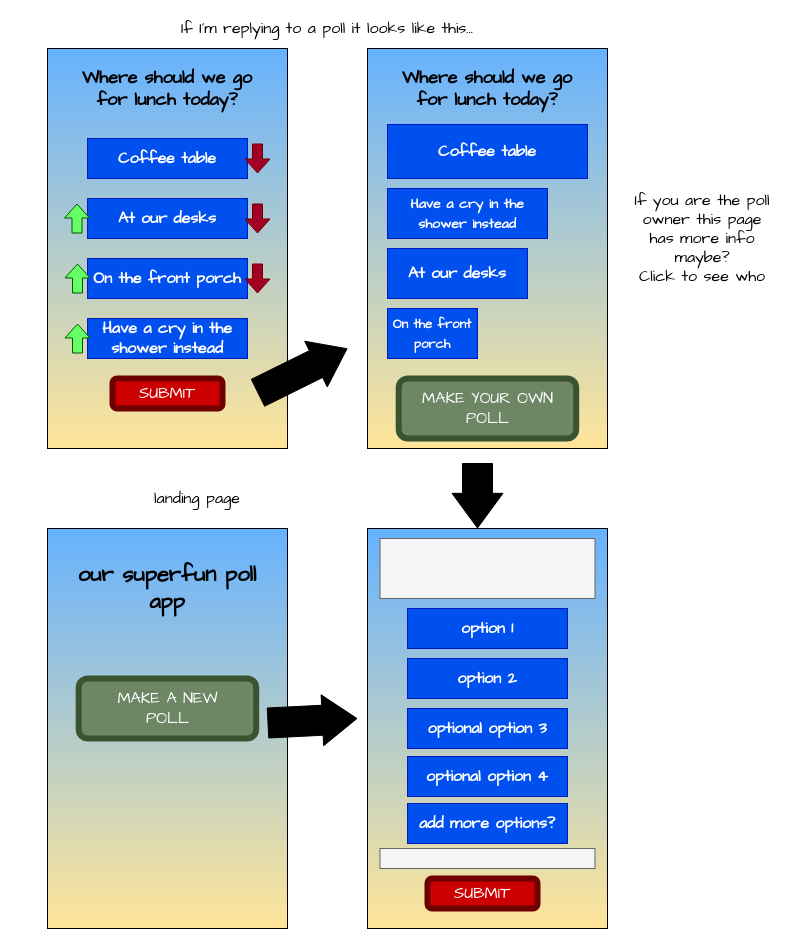
Image size: 794x946. Some labels were removed from this diagram. Here are the shapes that lost their labels. From the top down, the centre of each, then its label:
point 487,568: write your question here!
point 487,858: email address here
